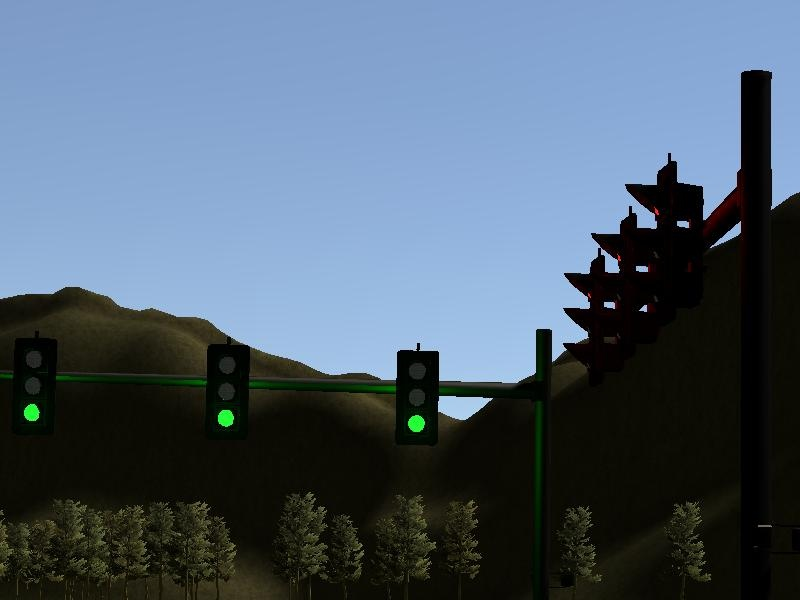Green: (11, 335, 57, 439), (203, 341, 250, 440), (395, 350, 440, 446)
